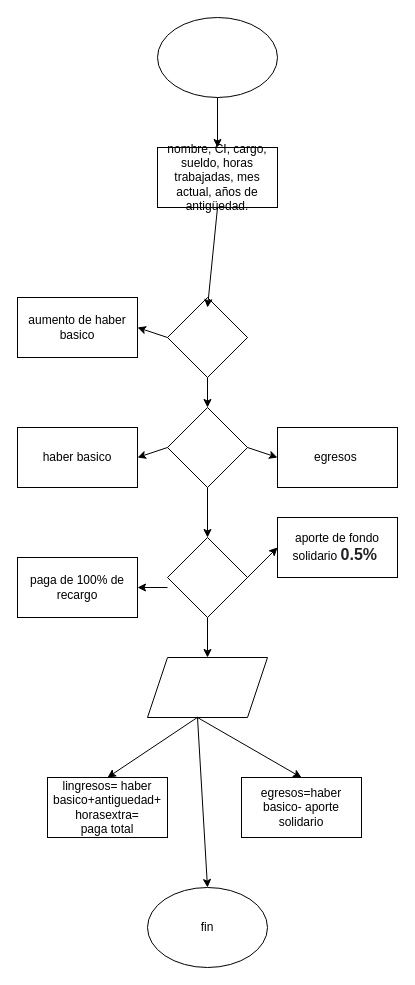
Some shapes in this 415 by 985 pixel diagram are drawn without their labels. The shapes that lost their labels are listed below. From the top down, each one's centre as x and y in pixels, then its label:
At (217,57): "inicio".
At (207,337): "años de antiguedad".
At (207,447): "ingresos".
At (207,577): "horas extra".
At (207,687): "liquido pagable".
